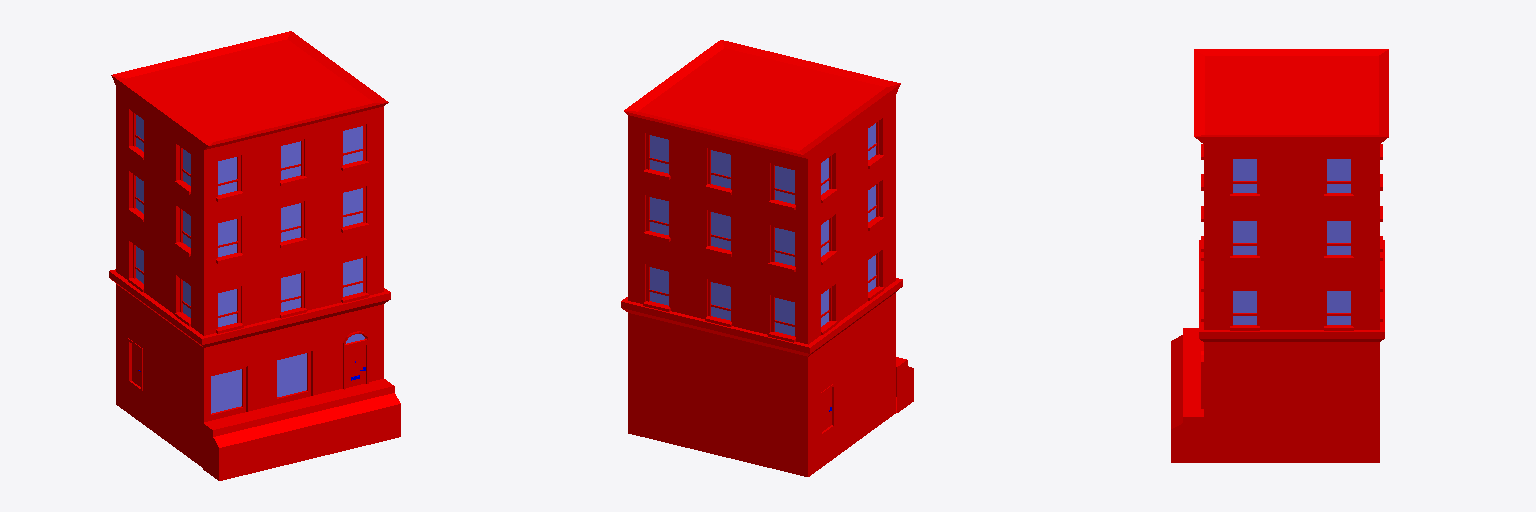
File: EverythingLibrary_Buildings_GeorgianHome4.obj
3 renders of one model, left to right at view 1: azimuth 30°, elevation 25°; view 2: azimuth 150°, elevation 25°; view 3: azimuth 270°, elevation 25°, orthographic.
Visible parts, largest first — view 1: base.106_Mesh.305, windowRefl.076_Mesh.304; view 2: base.106_Mesh.305, windowRefl.076_Mesh.304; view 3: base.106_Mesh.305, windowRefl.076_Mesh.304.
Boxes of the visible parts, x1,y1,x2,y2 form: base.106_Mesh.305: [109, 31, 400, 480]; windowRefl.076_Mesh.304: [136, 115, 364, 413]; base.106_Mesh.305: [621, 40, 913, 476]; windowRefl.076_Mesh.304: [650, 123, 875, 335]; base.106_Mesh.305: [1171, 49, 1388, 462]; windowRefl.076_Mesh.304: [1233, 159, 1350, 324].
Bounding box in the file's own units: 11.34 × 18.64 × 11.34.